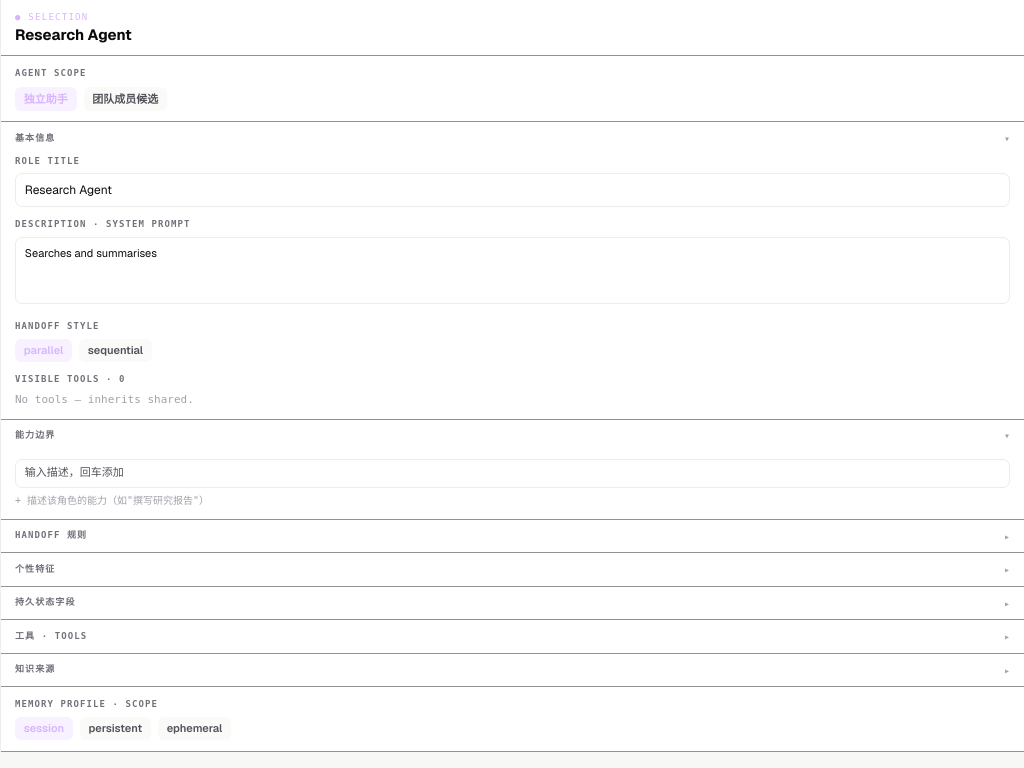
Test case: AC3 — handoff_rules 添加与下拉联动 › 点击"添加规则"新增一行
Step 1. Click the button with test id "section-handoff-rules-toggle" → [51, 535], box x1=1 y1=520 x2=1023 y2=552
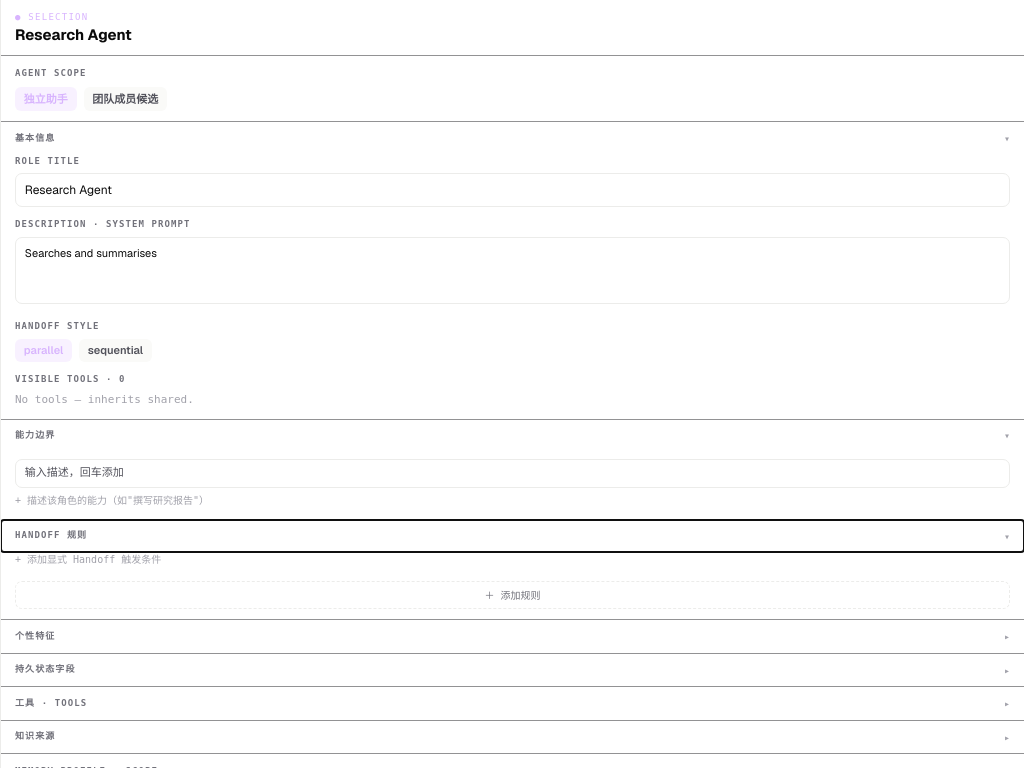
Step 2. Click the button with test id "handoff-rules-add" → [512, 595], box x1=15 y1=581 x2=1010 y2=609
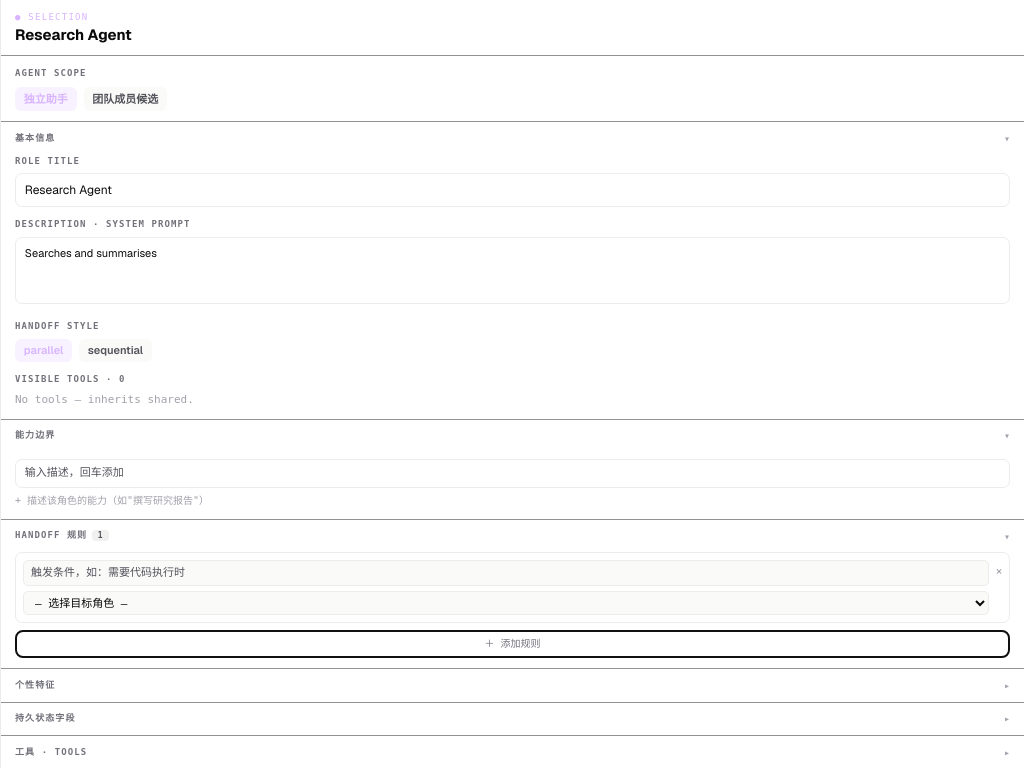
Now the element with test id "handoff-rule-row-0" is shown, box x1=15 y1=552 x2=1010 y2=623
